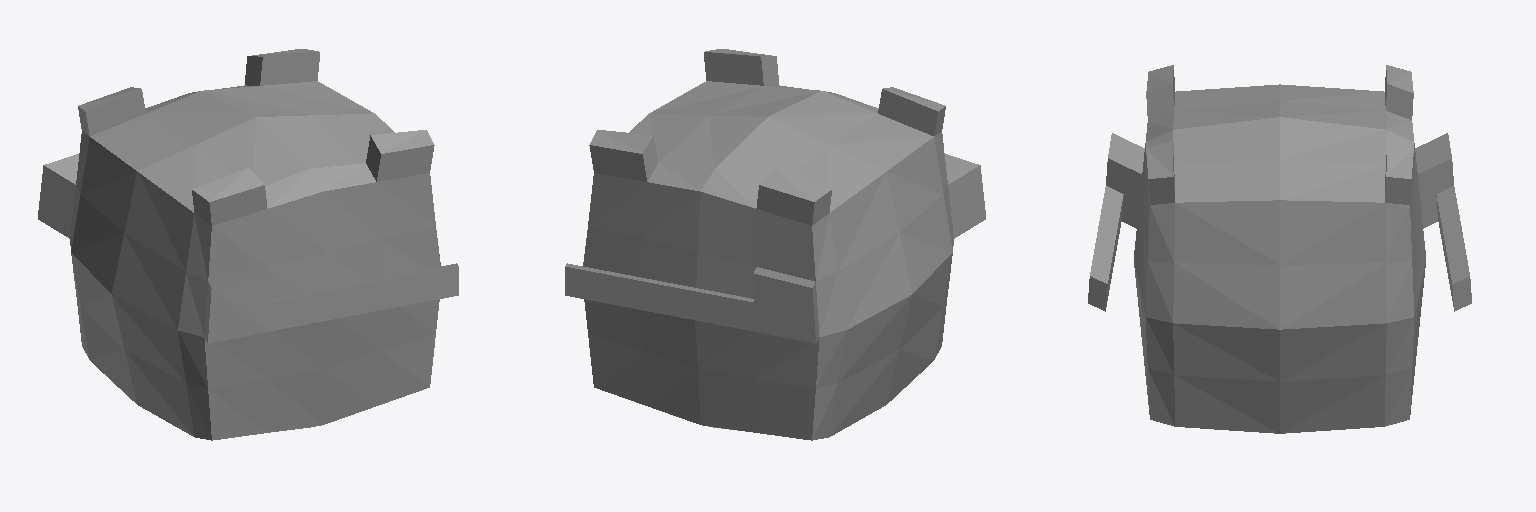
Rendered from module_macgun.obj.
The picture shows the model from 3 angles: view 1: azimuth 30°, elevation 25°; view 2: azimuth 150°, elevation 25°; view 3: azimuth 270°, elevation 25°; orthographic projection.
Parts seen in each view (by area): view 1: Cube.001; view 2: Cube.001; view 3: Cube.001.
Part boxes in pixels (bbox=[...]): Cube.001: bbox=[38, 49, 458, 440]; Cube.001: bbox=[565, 49, 985, 440]; Cube.001: bbox=[1088, 65, 1471, 433].
Size of the model in its own units: 1.73 by 1.66 by 2.